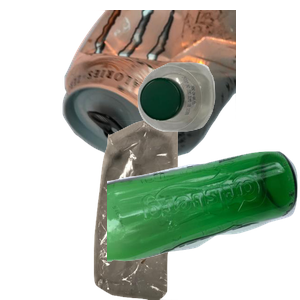glass: (107, 149, 300, 300)
metal: (60, 10, 300, 175)
plastic: (135, 60, 300, 184)
trash: (70, 120, 256, 300)
